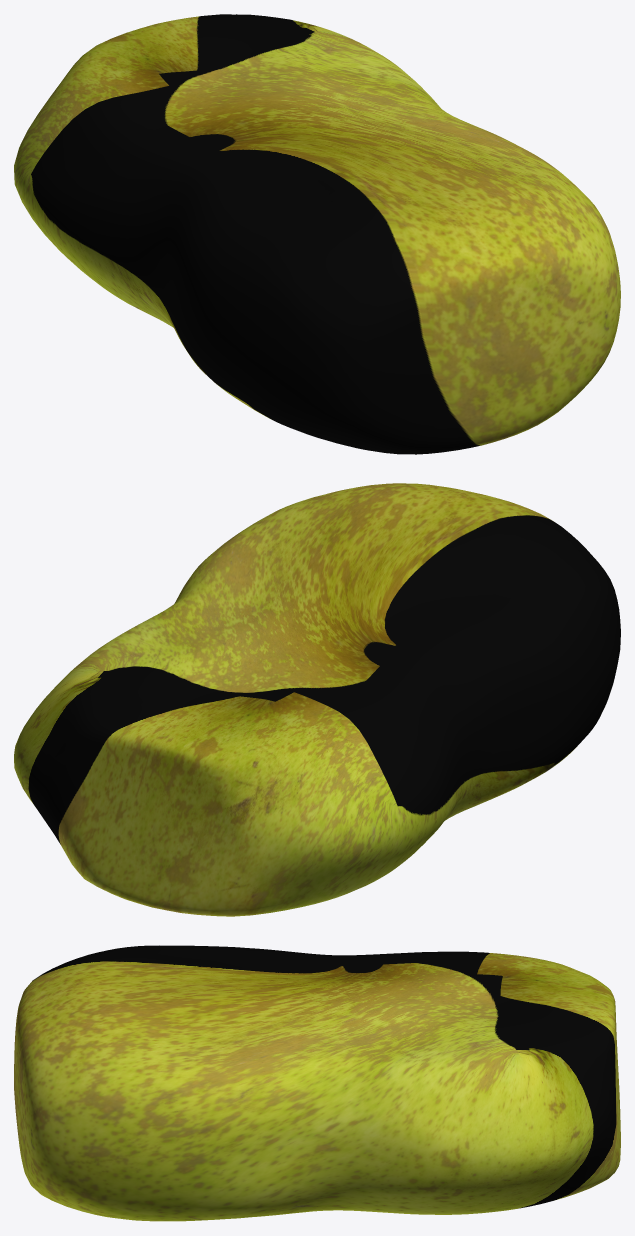
3 views of the same model, one above another, from view 1: azimuth 30°, elevation 25°; view 2: azimuth 150°, elevation 25°; view 3: azimuth 270°, elevation 25° (orthographic). The views are drawn at different scales.
Size of the model in its own units: 0.5532 by 0.3177 by 0.864.
